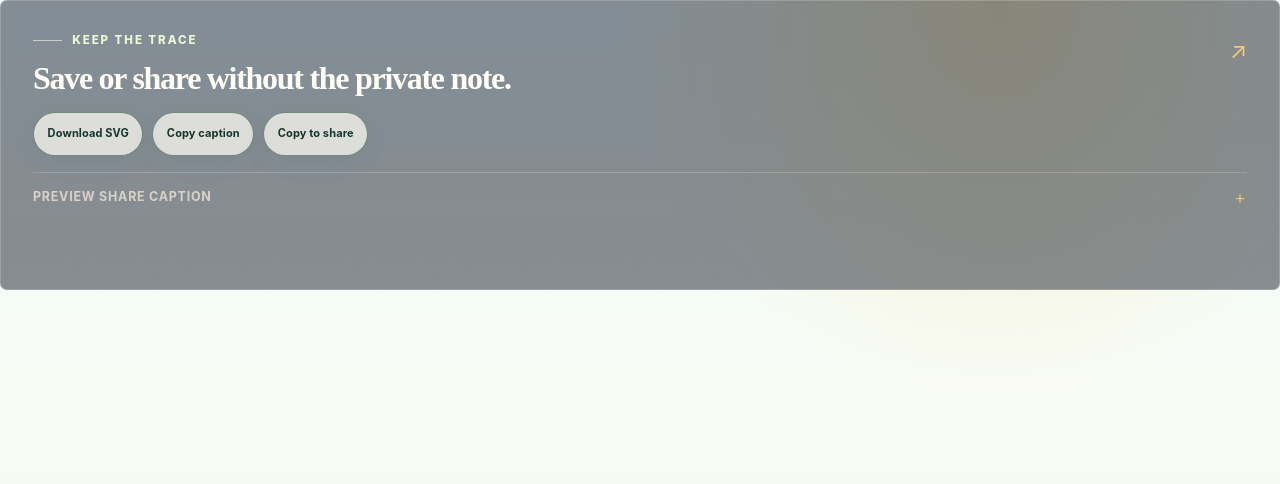
ShareActions › falls back cleanly when an embedded Clipboard API never settles
Click the button "Copy caption". click: (203, 134)
box: [152, 112, 254, 156]
Wait 1250 ms
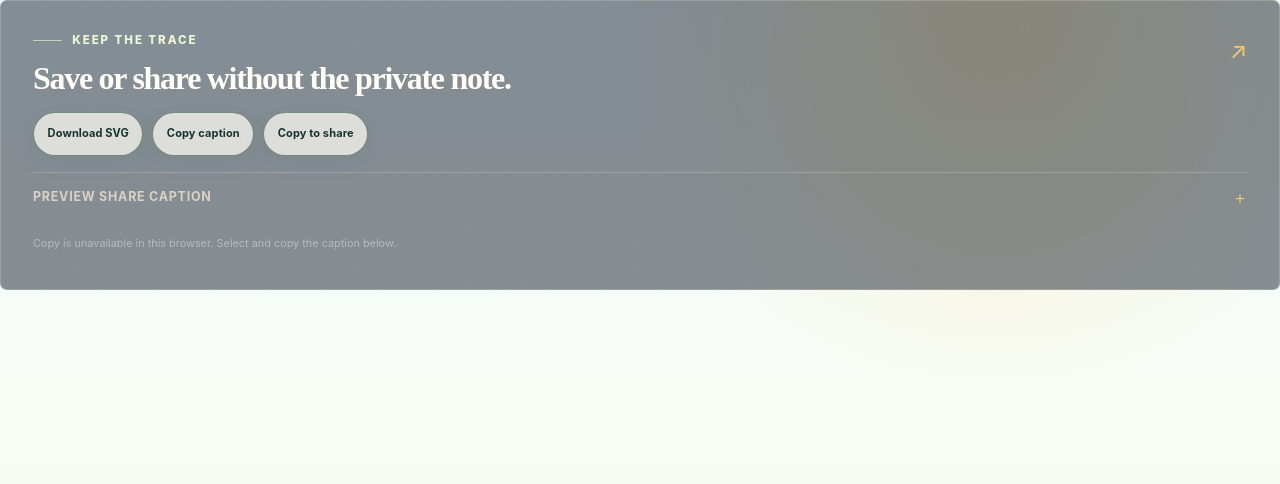
Check: the message shows "Copy is unavailable in this browser", box [33, 236, 396, 250]
